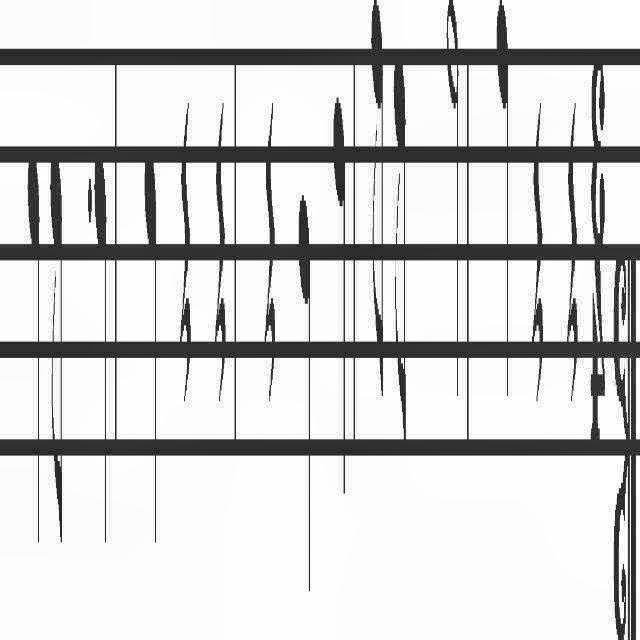Eighth-note: (392, 38, 408, 462), (48, 144, 64, 554), (370, 0, 386, 408)
Half-note: (447, 0, 461, 408)
Quarter-note: (299, 180, 313, 612), (144, 136, 158, 564), (27, 143, 41, 564), (333, 89, 347, 499), (496, 0, 509, 396), (94, 140, 106, 568)
Quarter-rest: (566, 100, 578, 416), (214, 96, 226, 412), (180, 96, 192, 412), (264, 96, 276, 408), (532, 102, 544, 402)
